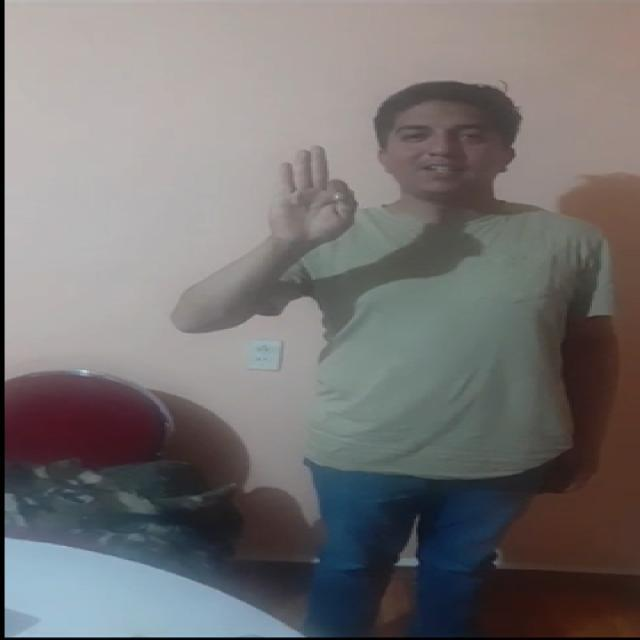F: (242, 133, 388, 271)
